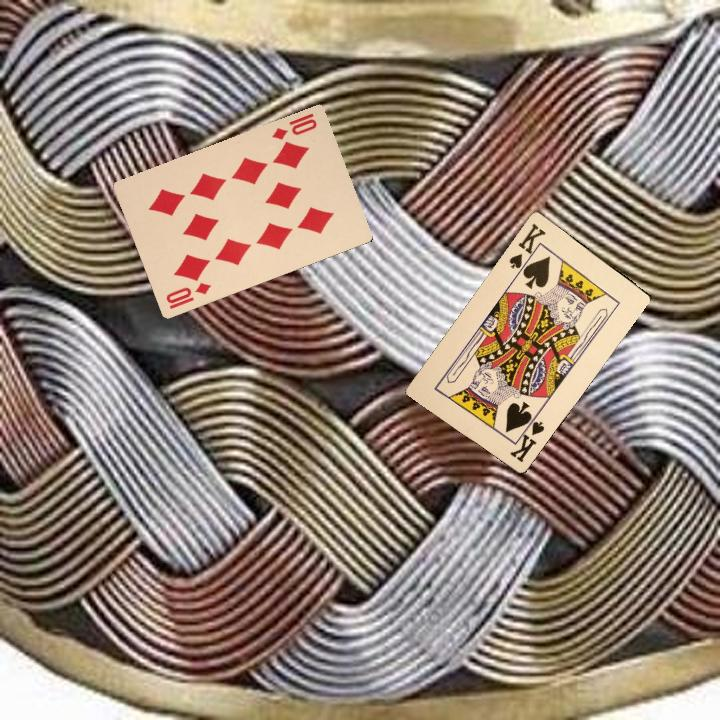10d: (162, 278, 213, 312), (268, 109, 319, 142)
Ks: (505, 219, 549, 274), (506, 411, 547, 465)
